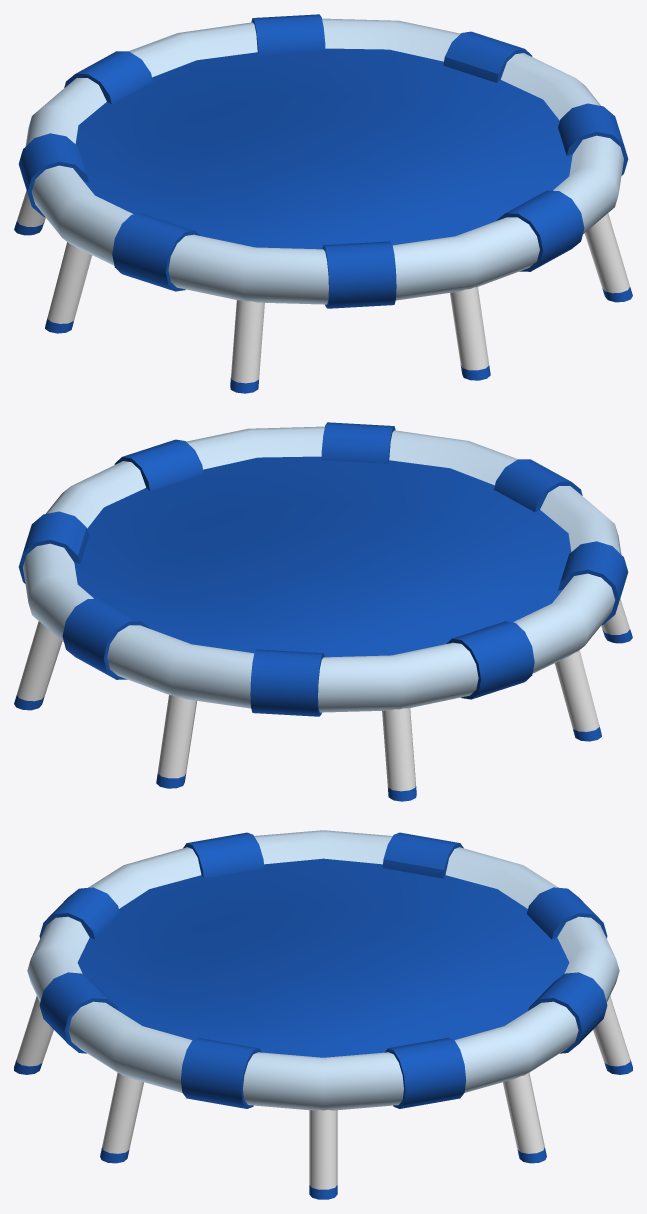
The model's file is Trampoline.fbx.
The picture shows the model from 3 angles, top to bottom: view 1: azimuth 30°, elevation 25°; view 2: azimuth 150°, elevation 25°; view 3: azimuth 270°, elevation 25°; orthographic projection. The views are drawn at different scales.
Visible parts, largest first — view 1: Trampoline; view 2: Trampoline; view 3: Trampoline.
Part boxes in pixels (x1,y1,x2,y2): Trampoline: (14,14,632,393); Trampoline: (14,422,632,801); Trampoline: (14,830,632,1199).
Bounding box in the file's own units: 0.155 × 0.0349 × 0.155.
